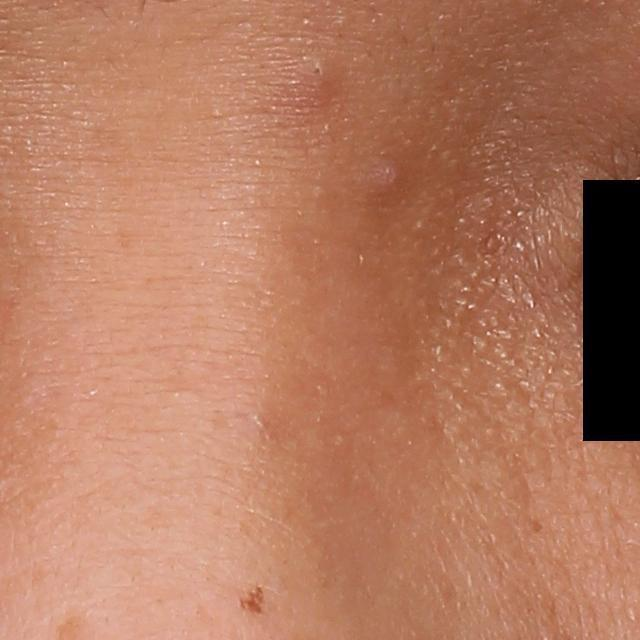comedo: (300, 54, 334, 83)
papule: (363, 154, 413, 200)
